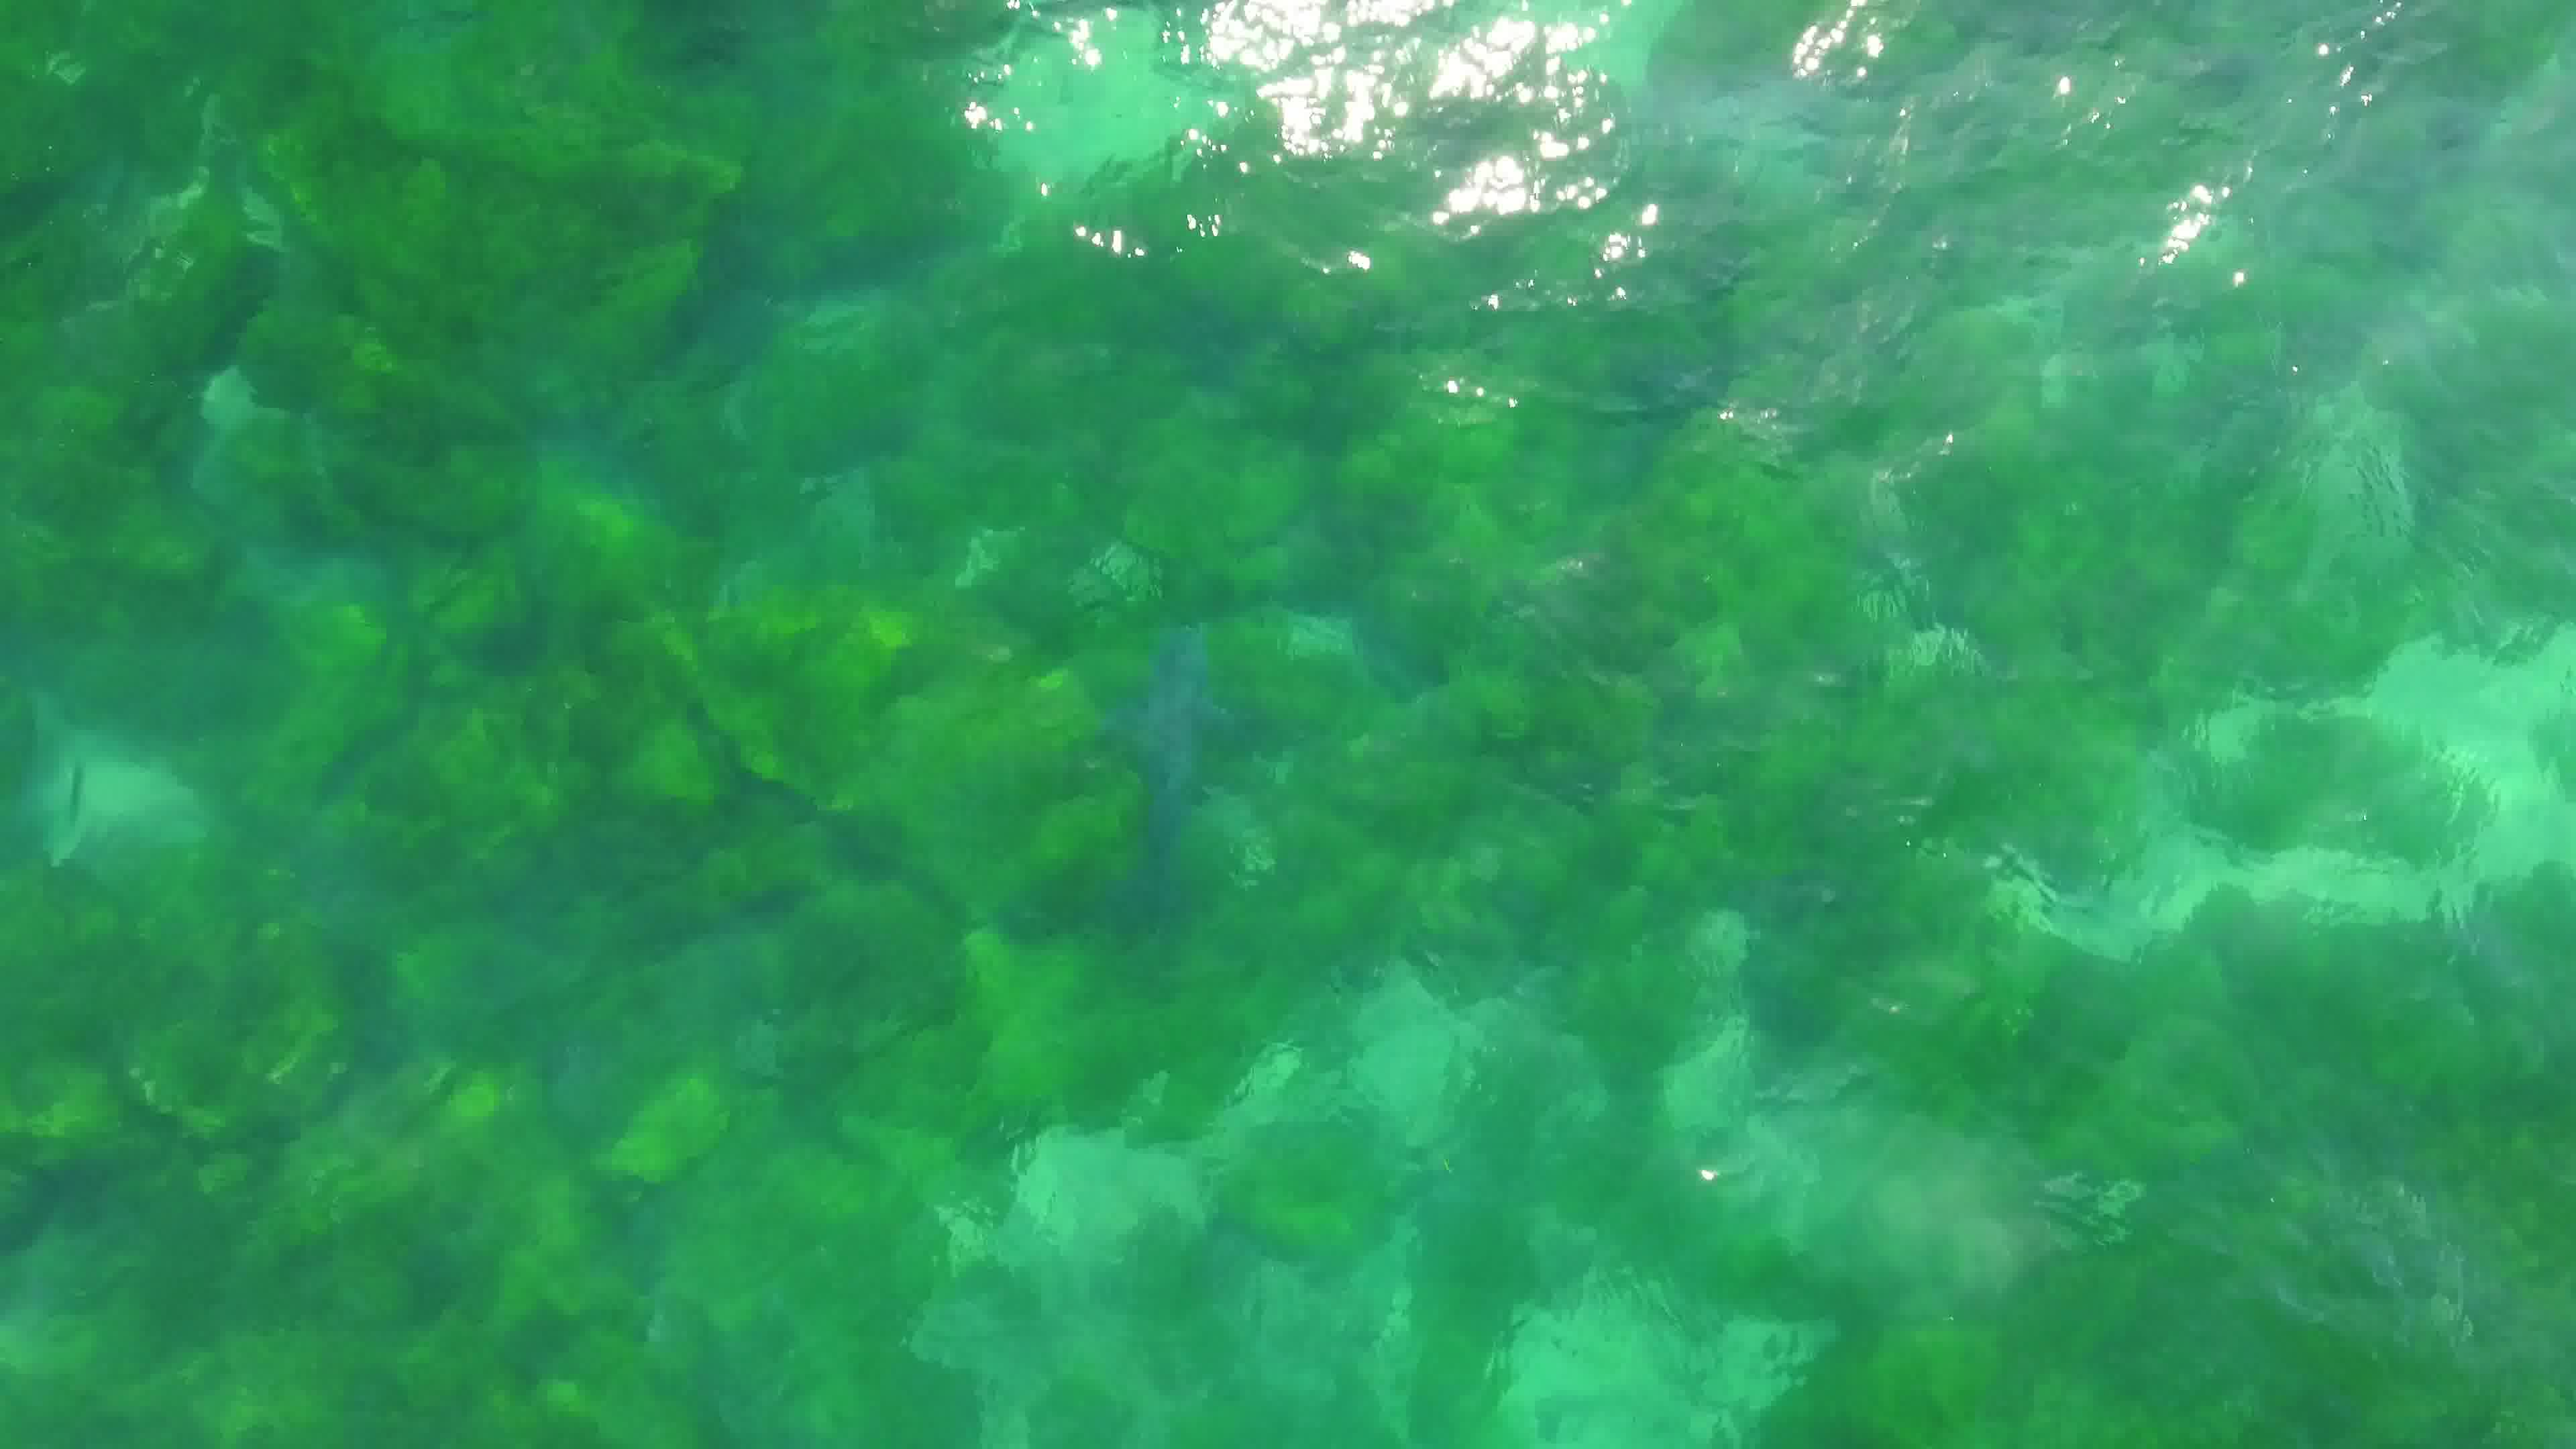shark: (1083, 614, 1246, 920)
